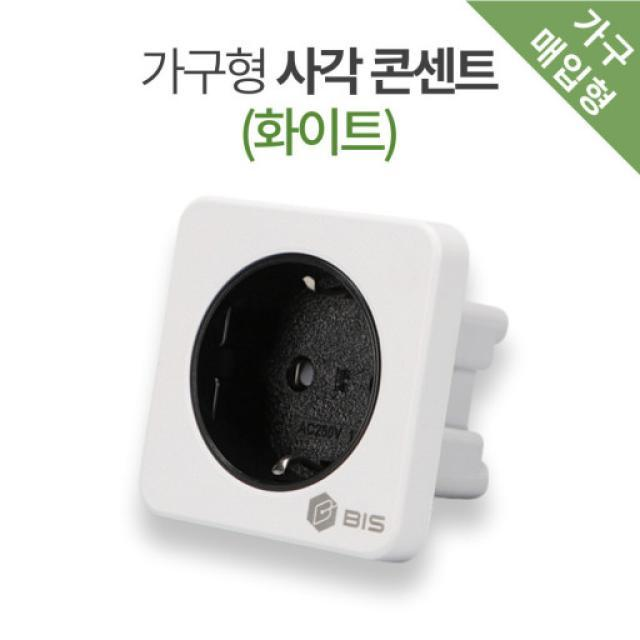typeb: (132, 185, 598, 591)
